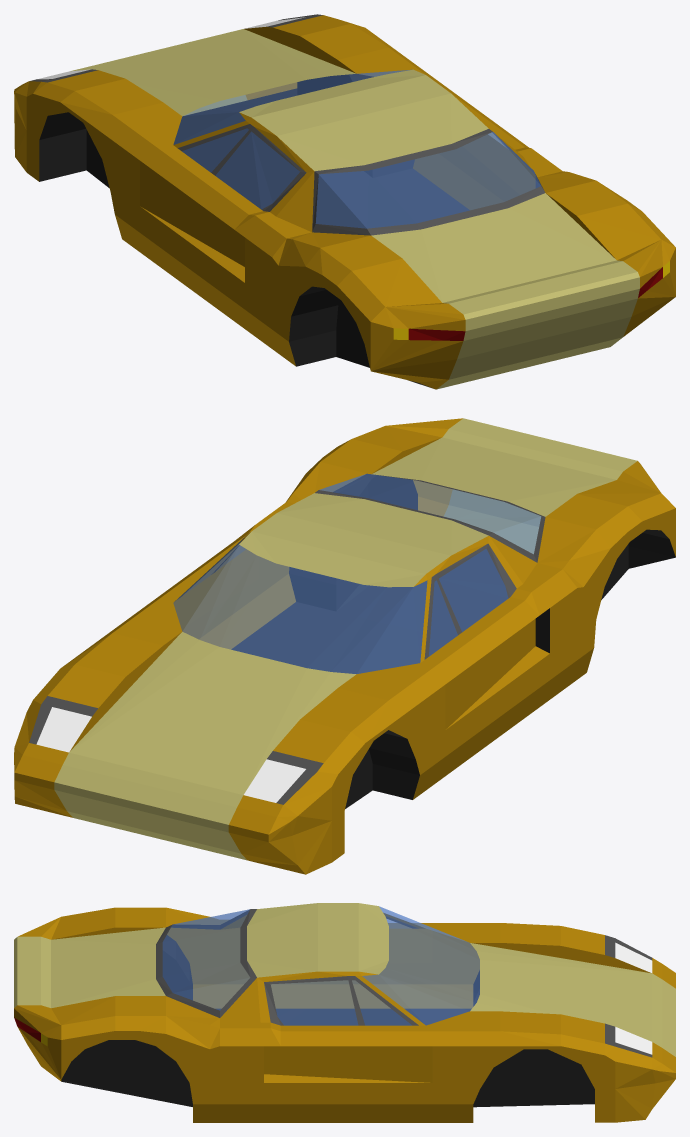
The model's file is Vectra.fbx.
3 renders of one model, top to bottom at view 1: azimuth 30°, elevation 25°; view 2: azimuth 150°, elevation 25°; view 3: azimuth 270°, elevation 25°, orthographic. The views are drawn at different scales.
Parts seen in each view (by area): view 1: _(Loose Entity); view 2: _(Loose Entity); view 3: _(Loose Entity).
Boxes of the visible parts, x1=… form: _(Loose Entity): x1=14, y1=14, x2=675, y2=389; _(Loose Entity): x1=14, y1=418, x2=675, y2=874; _(Loose Entity): x1=14, y1=903, x2=675, y2=1122.
Bounding box in the file's own units: 213 × 107 × 498.
